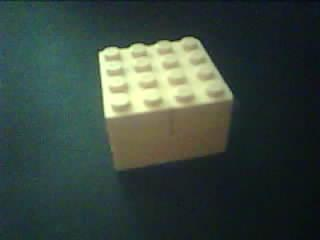lego: (98, 37, 235, 173)
